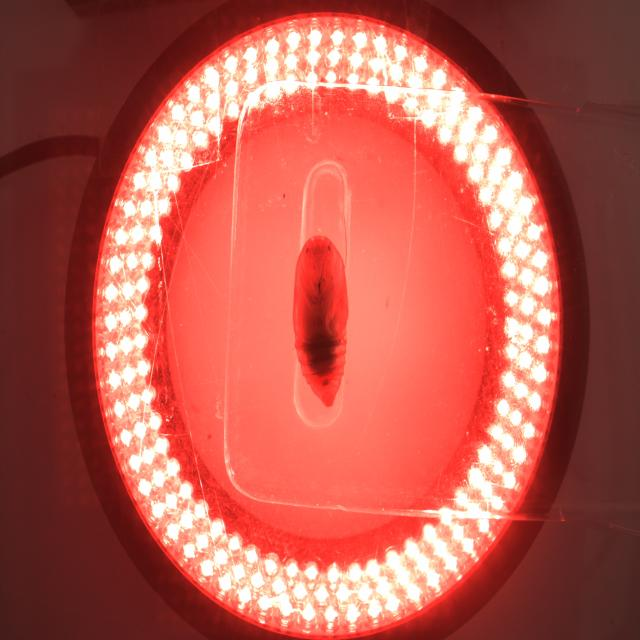male: (319, 377, 334, 389)
